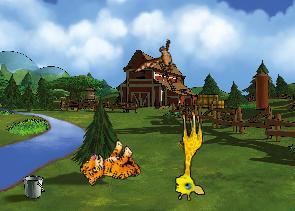eagle: (131, 31, 186, 89)
giraffe: (170, 110, 205, 201)
tiger: (76, 133, 146, 201)
